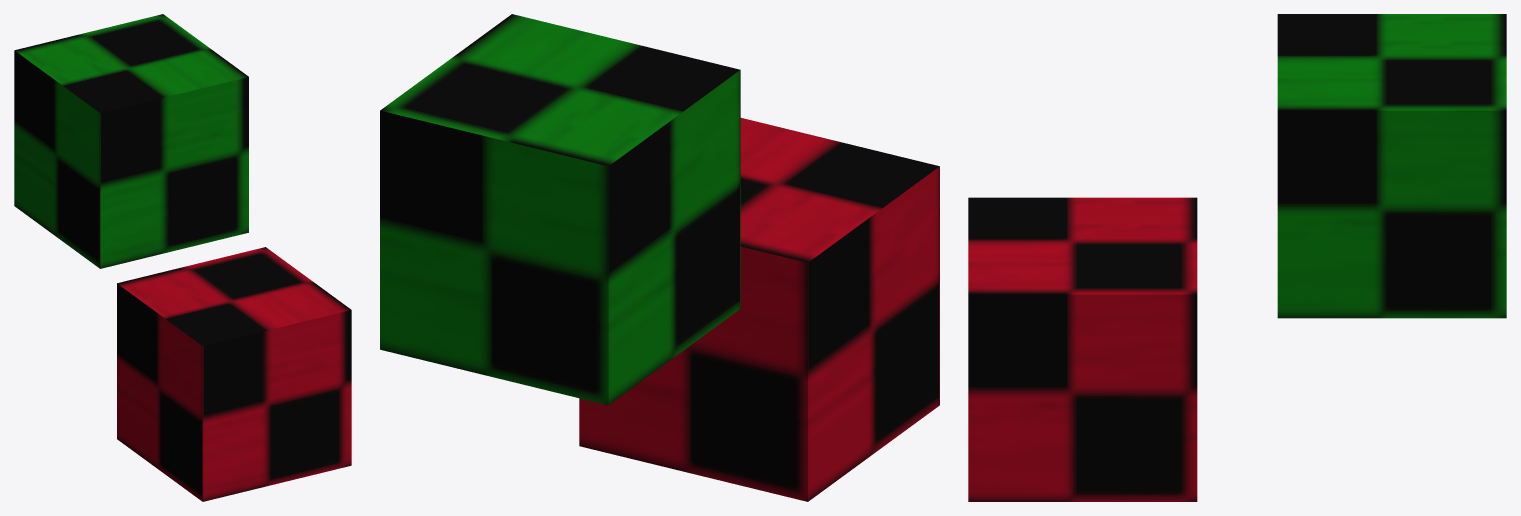
File: MultipleMesh.fbx
3 renders of one model, left to right at view 1: azimuth 30°, elevation 25°; view 2: azimuth 150°, elevation 25°; view 3: azimuth 270°, elevation 25°, orthographic. The views are drawn at different scales.
Visible parts, largest first — view 1: Cube, Cube.001; view 2: Cube.001, Cube; view 3: Cube, Cube.001.
Part boxes in pixels (x1=…): Cube: x1=117, y1=247, x2=351, y2=501; Cube.001: x1=14, y1=14, x2=248, y2=268; Cube.001: x1=380, y1=14, x2=740, y2=405; Cube: x1=579, y1=118, x2=939, y2=501; Cube: x1=968, y1=197, x2=1197, y2=501; Cube.001: x1=1277, y1=14, x2=1506, y2=318.
Bounding box in the file's own units: 218 × 386 × 470.
